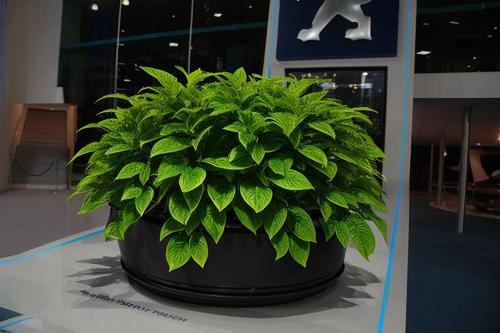person: (78, 114, 128, 139)
person/hand: (78, 121, 86, 129)
person/head: (107, 115, 122, 129)
pottedplant: (62, 66, 387, 307)
